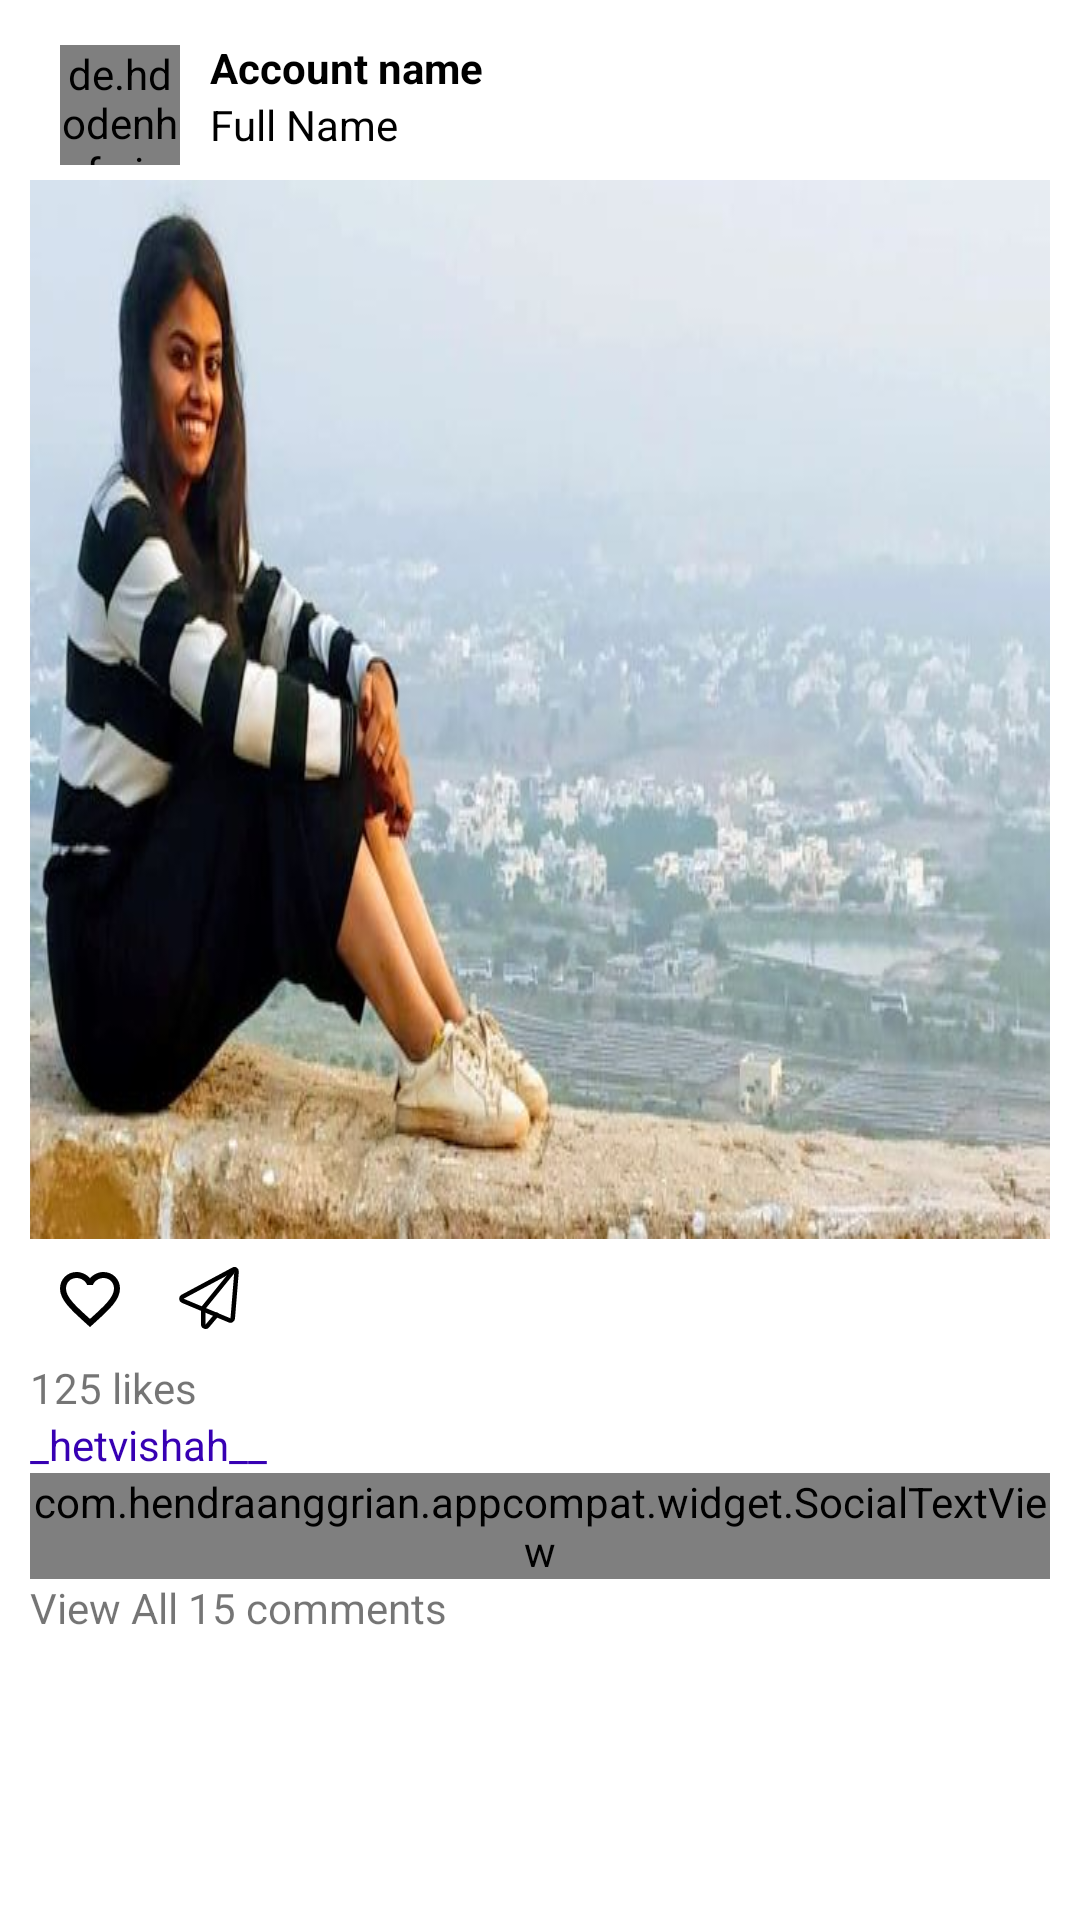

Icon click points for this 1080 × 1920 phone screenshot, format [x,y]:
heart: [90,1299]
share post: [209,1298]
